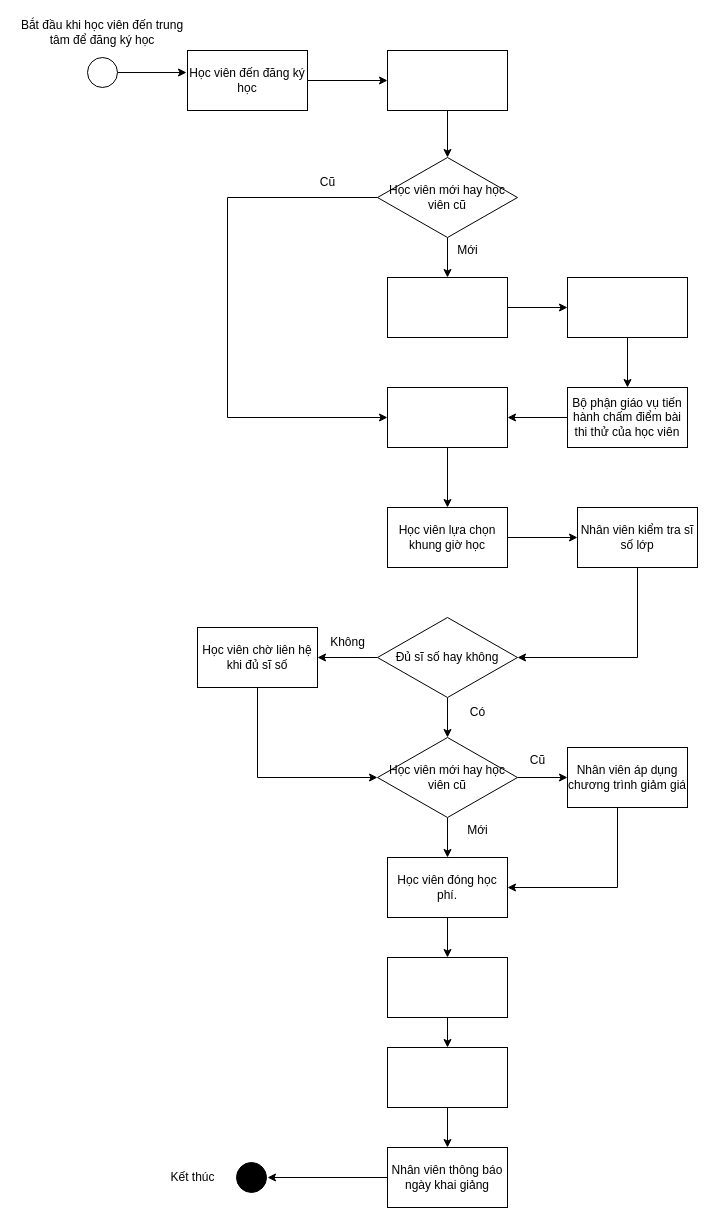
Some shapes in this 715 by 1225 pixel diagram are drawn without their labels. Here are the shapes that lost their labels. From the top down, the centre of each, then its label:
At point (447, 80): "Nhân viên tiếp nhận thông tin học viên".
At point (447, 307): "Nhân viên phát phiếu thi thử cho học viên mới".
At point (627, 307): "Học viên mới thực hiện bài thi đánh giá trình độ.".
At point (447, 417): "Học viên lựa chọn loại lớp muốn học".
At point (447, 987): "Nhân viên thu tiền".
At point (447, 1077): "Nhân viên lập biên lai".
